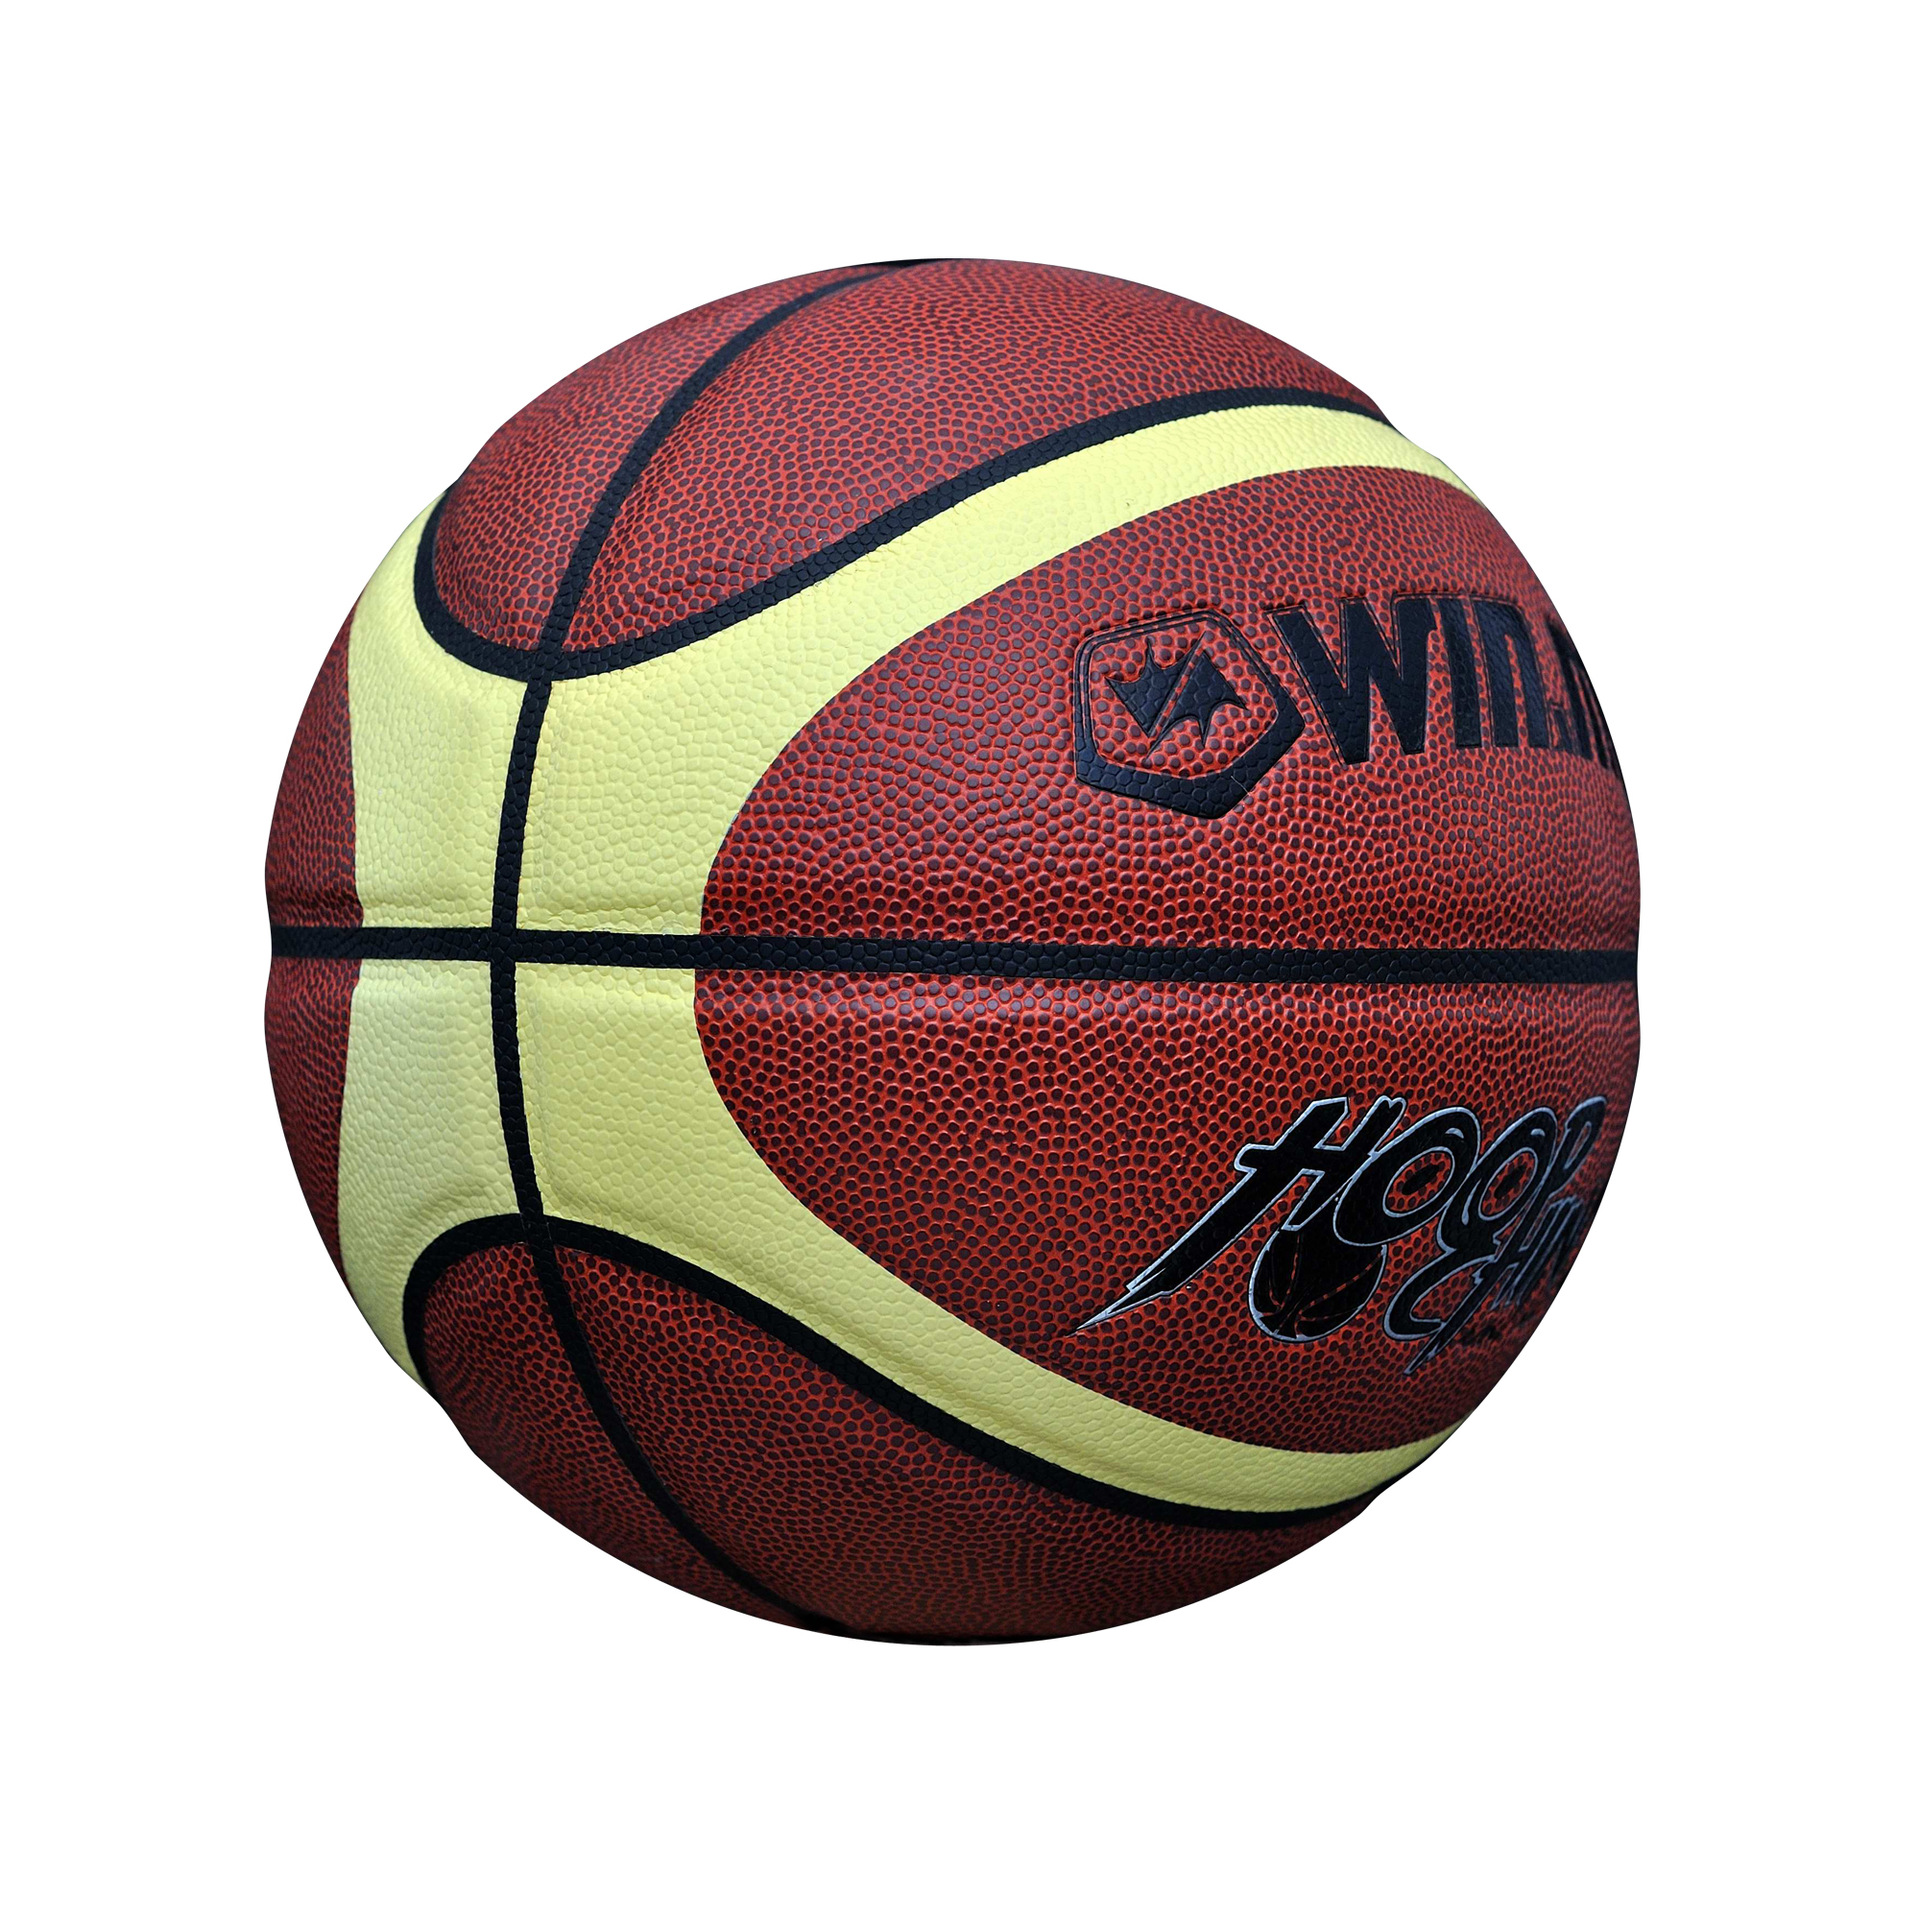ball: (258, 255, 1642, 1642)
